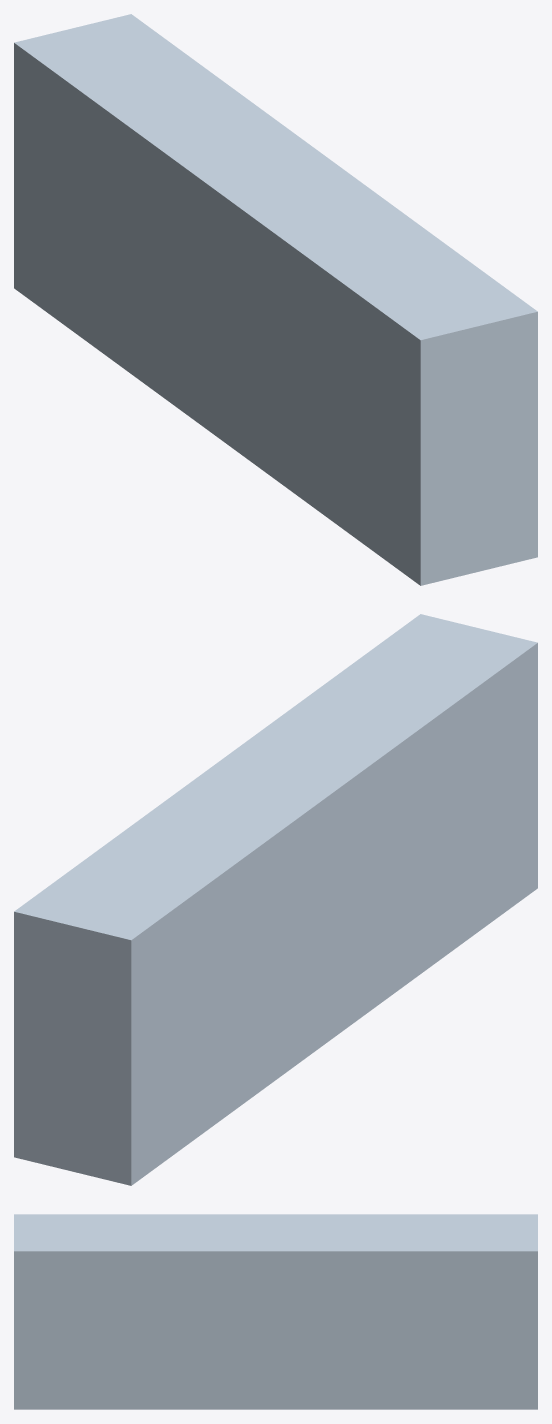
Rendered from rcc_doubly_reinforced_beam_is456.glb.
3 renders of one model, top to bottom at view 1: azimuth 30°, elevation 25°; view 2: azimuth 150°, elevation 25°; view 3: azimuth 270°, elevation 25°, orthographic. The views are drawn at different scales.
Parts seen in each view (by area): view 1: ConcreteBeamPrismDoublyStem; view 2: ConcreteBeamPrismDoublyStem; view 3: ConcreteBeamPrismDoublyStem.
Part boxes in pixels (<box>): ConcreteBeamPrismDoublyStem: <box>14,14,537,585</box>; ConcreteBeamPrismDoublyStem: <box>14,614,537,1185</box>; ConcreteBeamPrismDoublyStem: <box>14,1214,537,1409</box>.
Size of the model in its own units: 0.3 by 0.6 by 1.8.
